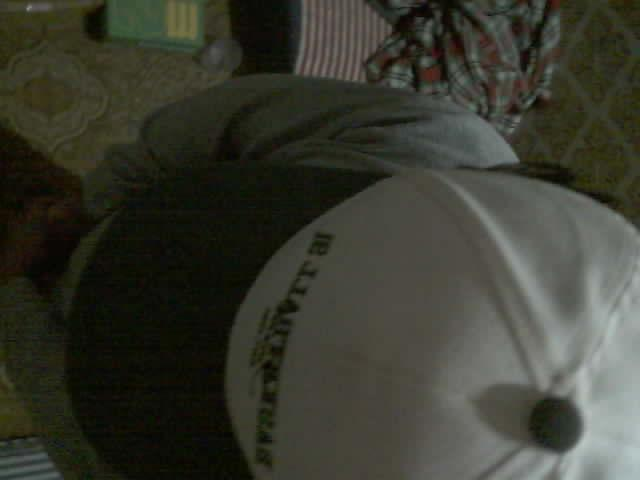cap: (64, 158, 639, 479)
